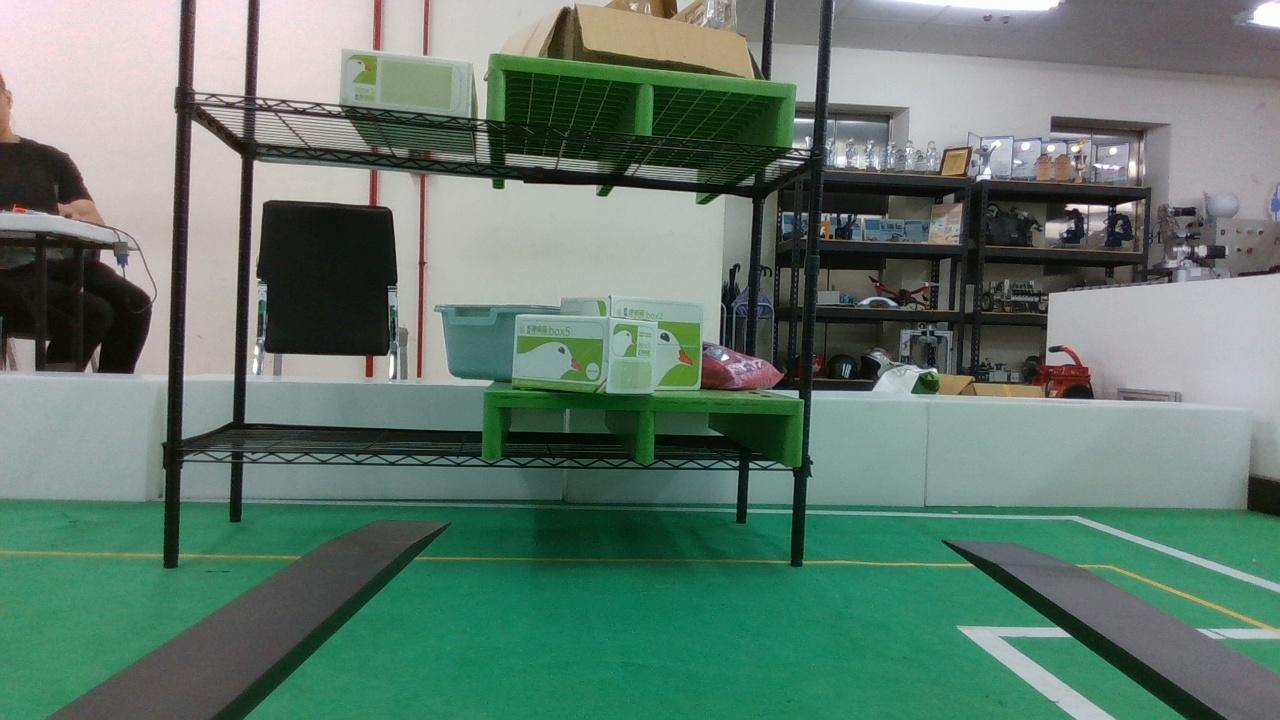Pallet: (489, 51, 795, 148), (485, 391, 805, 468)
